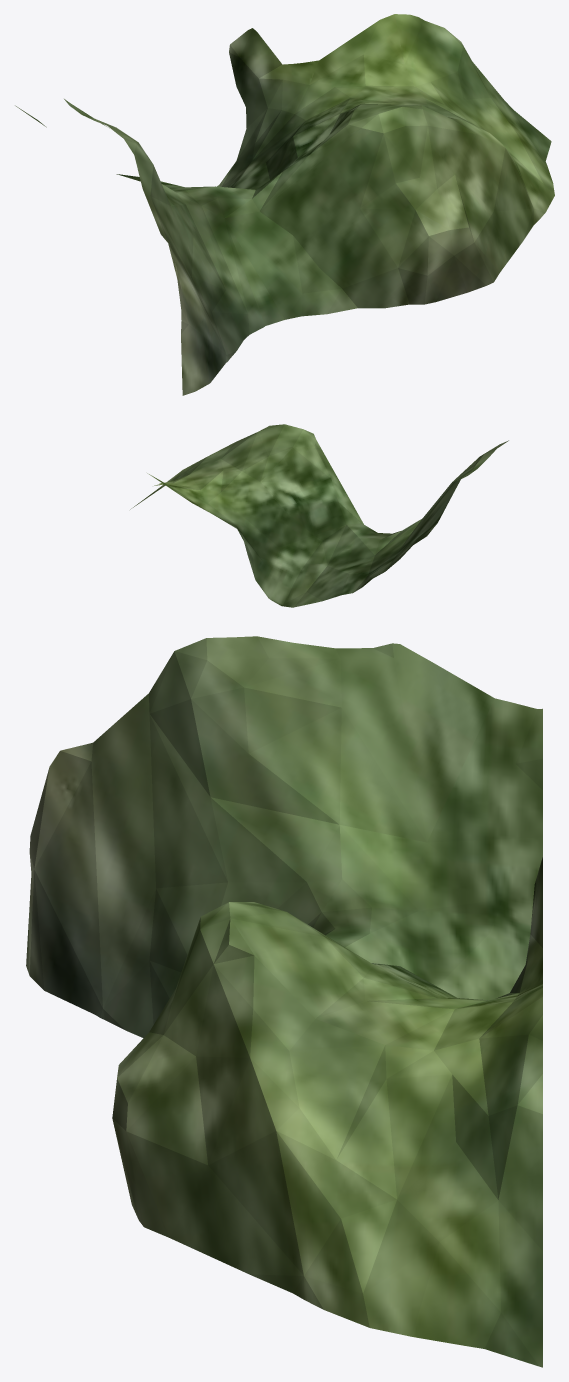
3 renders of one model, top to bottom at view 1: azimuth 30°, elevation 25°; view 2: azimuth 150°, elevation 25°; view 3: azimuth 270°, elevation 25°, orthographic. The views are drawn at different scales.
Size of the model in its own units: 2.77 by 1.06 by 1.51.
Materials: 2 (2 with a texture image).
